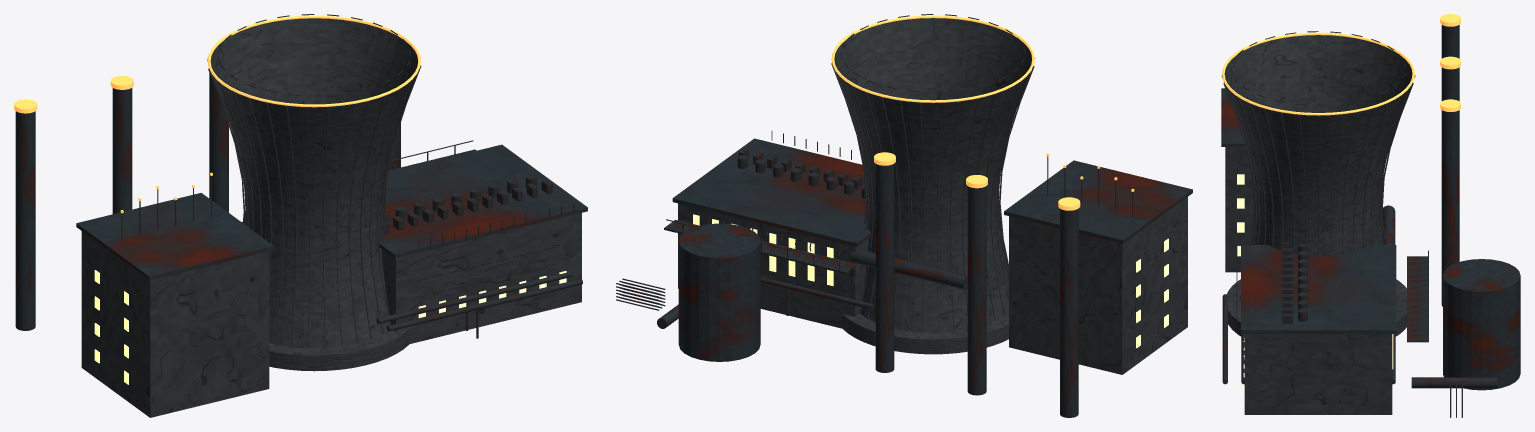
Rendered from geothermal-plant-lod0.meshopt.glb.
The picture shows the model from 3 angles, left to right: view 1: azimuth 30°, elevation 25°; view 2: azimuth 150°, elevation 25°; view 3: azimuth 270°, elevation 25°; orthographic projection. The views are drawn at different scales.
Visible parts, largest first — view 1: CinematicBatch_concrete, CinematicBatch_steel, CinematicBatch_amber, CinematicBatch_window; view 2: CinematicBatch_concrete, CinematicBatch_steel, CinematicBatch_amber, CinematicBatch_window; view 3: CinematicBatch_concrete, CinematicBatch_steel, CinematicBatch_amber, CinematicBatch_window.
Boxes of the visible parts, x1,y1,x2,y2 form: CinematicBatch_concrete: (81, 18, 581, 417); CinematicBatch_steel: (15, 14, 587, 338); CinematicBatch_amber: (14, 15, 420, 213); CinematicBatch_window: (94, 270, 566, 384); CinematicBatch_concrete: (678, 18, 1187, 374); CinematicBatch_steel: (616, 14, 1192, 417); CinematicBatch_amber: (831, 15, 1134, 210); CinematicBatch_window: (693, 214, 1168, 348); CinematicBatch_concrete: (1221, 35, 1415, 414); CinematicBatch_steel: (1221, 25, 1520, 417); CinematicBatch_amber: (1222, 14, 1460, 115); CinematicBatch_window: (1237, 174, 1393, 390).
Size of the model in its own units: 64.35 by 35.09 by 38.5.
Materials: 4 (2 with a texture image).
